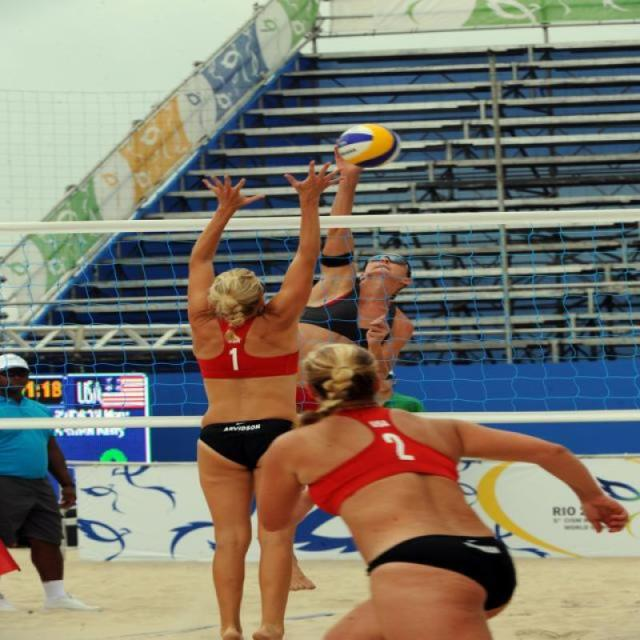volleyball: (334, 120, 402, 168)
